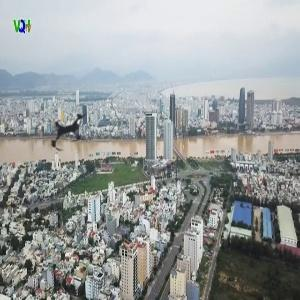drone: (33, 95, 110, 172)
